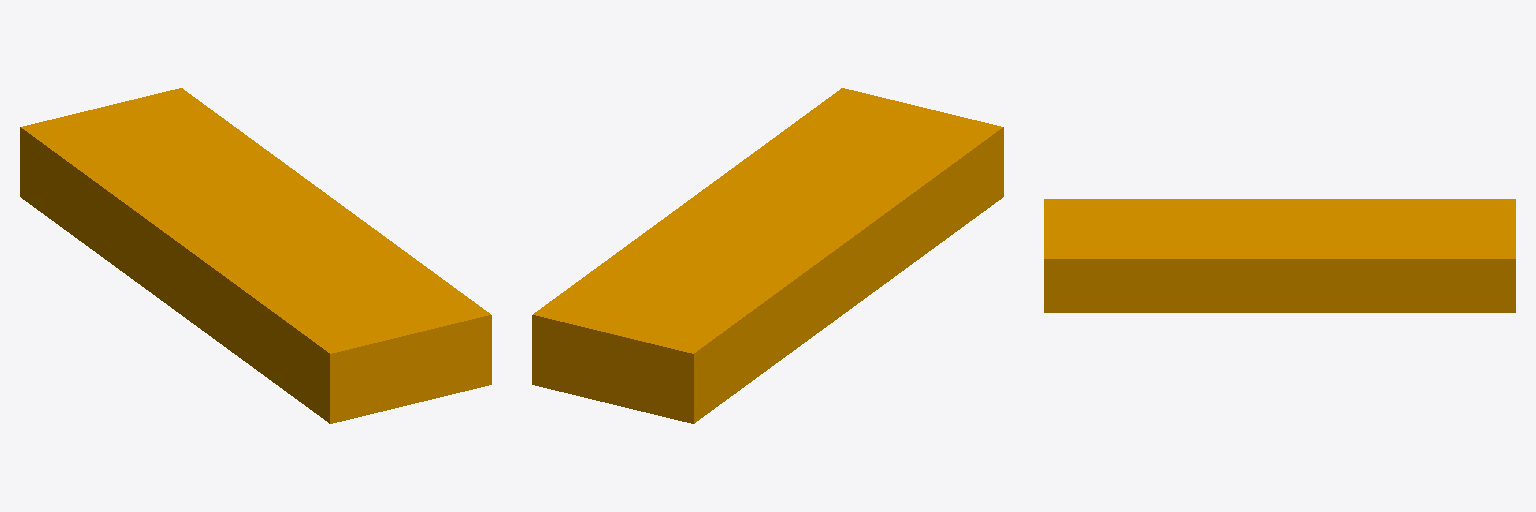
robot.urdf — my_object:
<?xml version="1.0" ?> 
<robot name="my_object">
  <link name="base_link">
  <inertial>
    <mass value="0.001" />
    <origin xyz="0 0 0" />
    <inertia  ixx="1.0" ixy="0.0"  ixz="0.0"  iyy="1.0"  iyz="0.0"  izz="1.0" />
  </inertial>
  <visual>
   <origin xyz="0 0 0.0" rpy="0 0 0" />
   <geometry>
     <mesh filename="package://cob_gazebo_objects/Media/models/floor.dae" scale="0.3 1 0.5" />
   </geometry>
  </visual>
  <collision>
   <origin xyz="0 0 0.0" rpy="0 0 0" />
   <geometry>
     <!--mesh filename="package://cob_gazebo_objects/Media/models/floor.dae" scale="0.3 1 0.5"-->
   </geometry>
  </collision>     
  </link>

<gazebo>
	<static>true</static>
</gazebo>

</robot>

--- What the picture shows (computed from the rendered views, not written in the file) ---
The picture shows the robot from 3 angles, left to right: view 1: azimuth 30°, elevation 25°; view 2: azimuth 150°, elevation 25°; view 3: azimuth 270°, elevation 25°; orthographic projection.
Robot: my_object — 1 links, 0 joints (none); root link base_link; default pose: every joint at zero.
Visible links, largest first — view 1: base_link; view 2: base_link; view 3: base_link.
Boxes of the visible links, x1=… form: base_link: x1=20, y1=88, x2=491, y2=423; base_link: x1=532, y1=88, x2=1003, y2=423; base_link: x1=1044, y1=199, x2=1515, y2=312.
Size in the robot's own frame: 1.2 by 4 by 0.5 metres.
Meshes: 1 distinct files referenced, 1 mesh visuals loaded (1 Collada DAE).